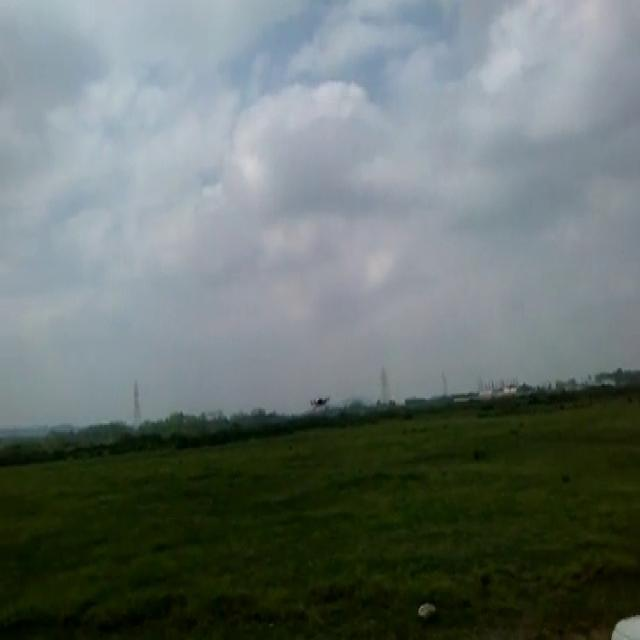drone: (308, 390, 332, 412)
